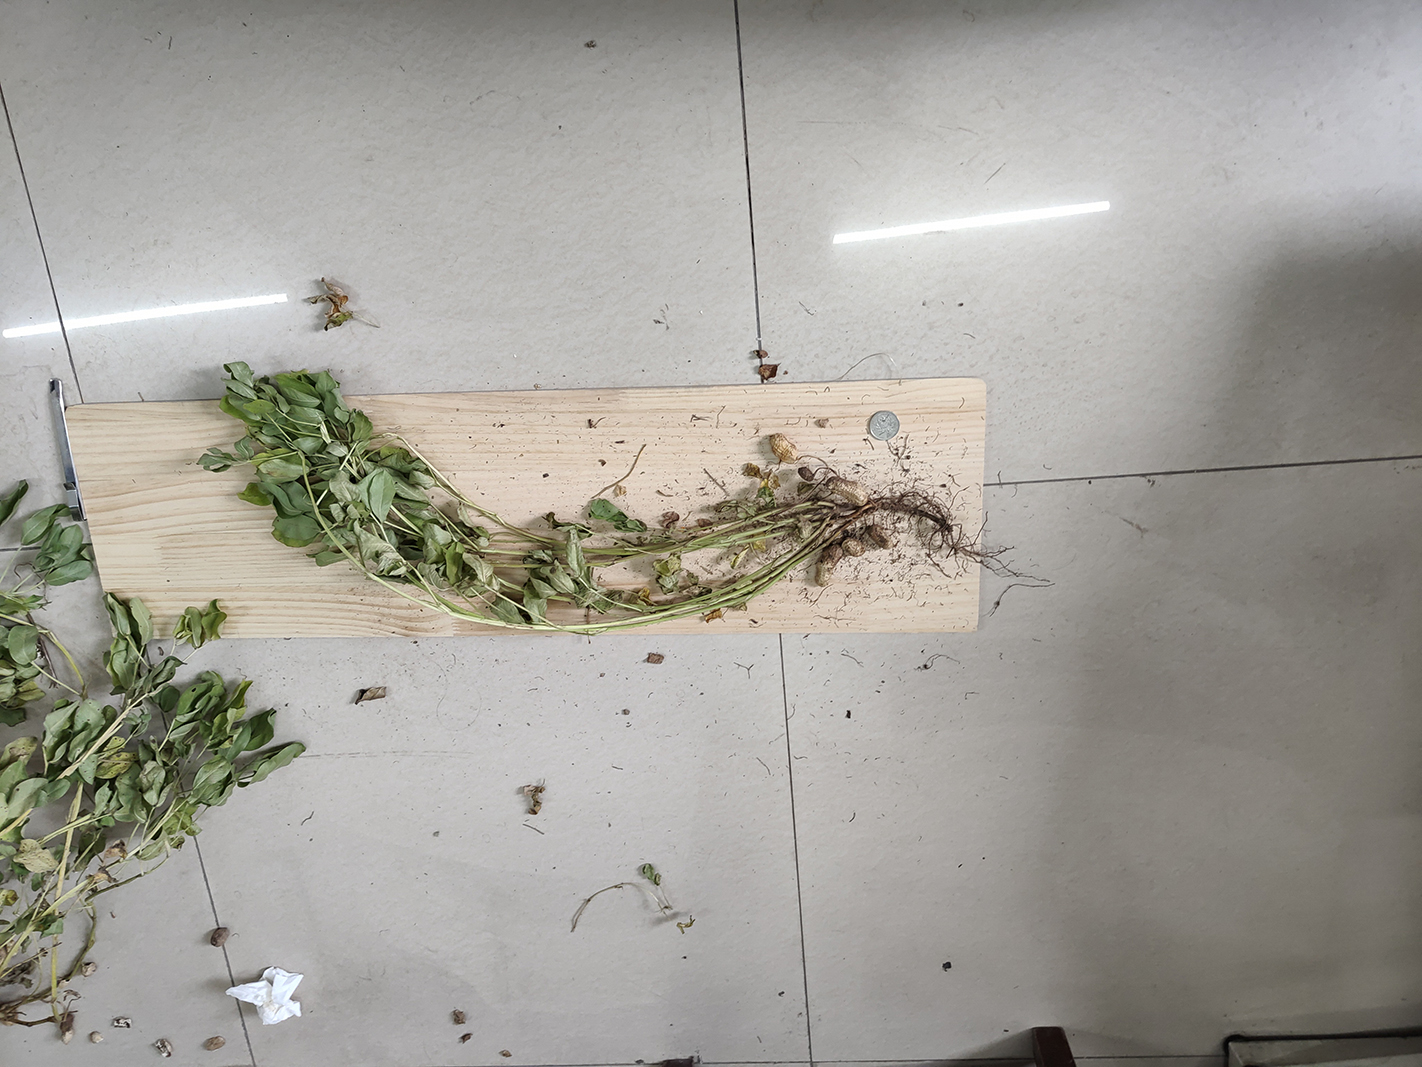h: (815, 542, 843, 588), (827, 476, 870, 505), (769, 433, 799, 464), (842, 537, 864, 557)
l: (870, 525, 894, 550), (798, 466, 816, 482)
